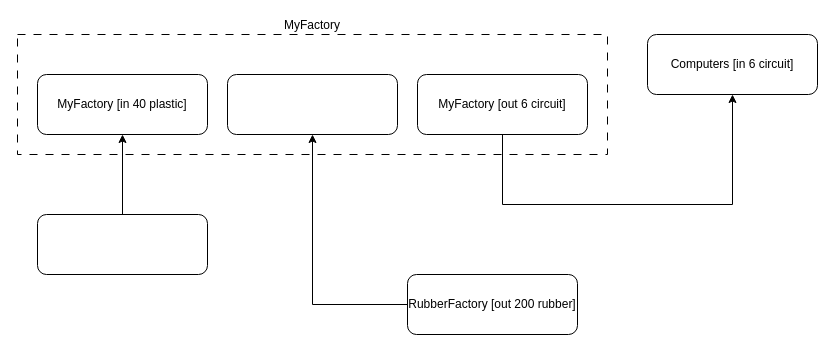
Image size: 835x352. Some labels were removed from this diagram. Here are the shapes that lost their labels. From the top down, the centre of each, then its label:
At pixel 312 104: "MyFactory [in 60 rubber]".
At pixel 122 244: "PlasticMachine [out 99 plastic]".
